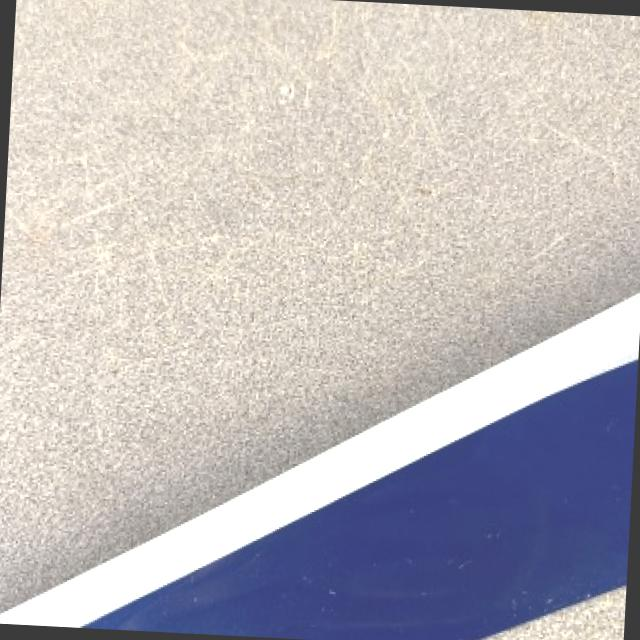healthy: (0, 0, 640, 610), (494, 590, 626, 640)
